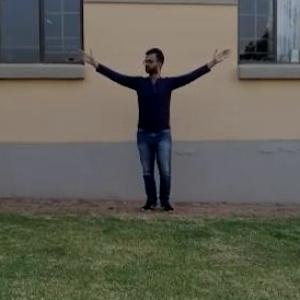takeoff: (74, 42, 224, 204)
